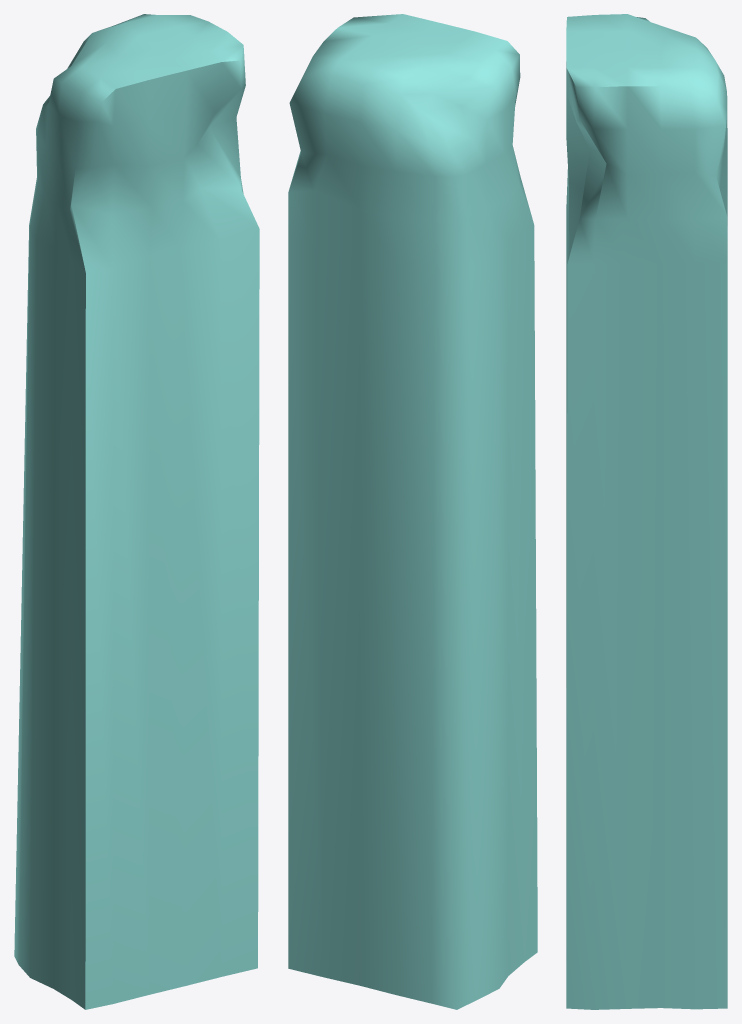
3 views of the same model, side by side, from view 1: azimuth 30°, elevation 25°; view 2: azimuth 150°, elevation 25°; view 3: azimuth 270°, elevation 25° (orthographic).
Visible parts, largest first — view 1: Cube.008; view 2: Cube.008; view 3: Cube.008.
Part boxes in pixels (box(x1,y1,x2,y2)): Cube.008: box(14, 14, 259, 1009); Cube.008: box(288, 14, 537, 1009); Cube.008: box(566, 14, 727, 1009).
Bounding box in the file's own units: 737 × 3521 × 557.
